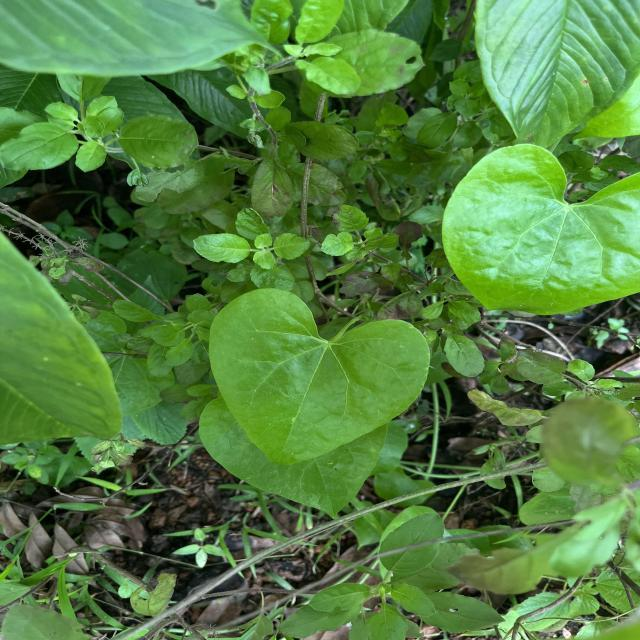Tinospora cordifolia: (207, 286, 433, 468), (439, 141, 640, 318)
